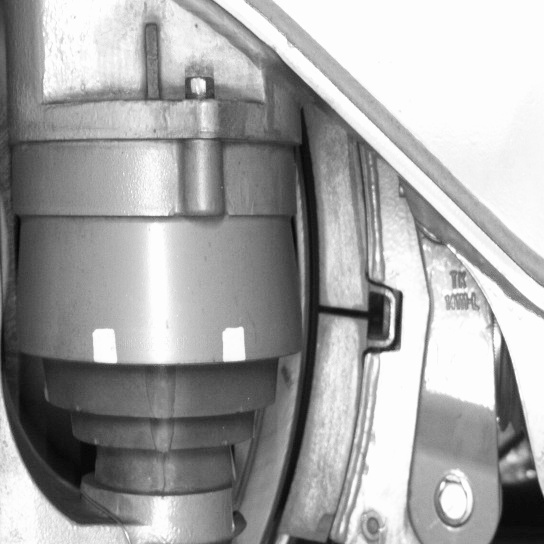KnifeSwitch: (254, 137, 382, 541)
